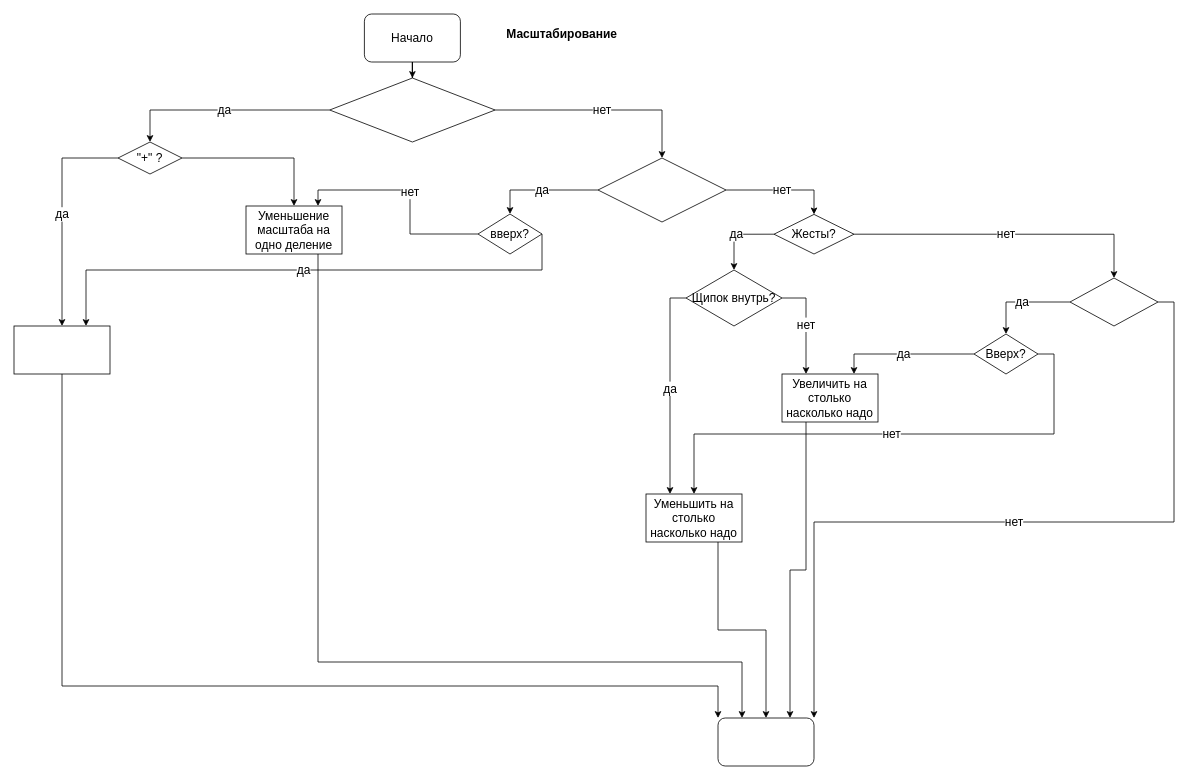
The diagram is 1194 pixels wide and 780 high, and some of its shapes have lost their labels. The centre of each missing label's shape, as x and y in pixels:
Колесо мыши ?: (x=661, y=189)
Конец: (x=765, y=741)
Нажатие "+"/"-" ?: (x=412, y=109)
Ползунок?: (x=1113, y=301)
Увеличение масштаба на одно деление: (x=61, y=349)
